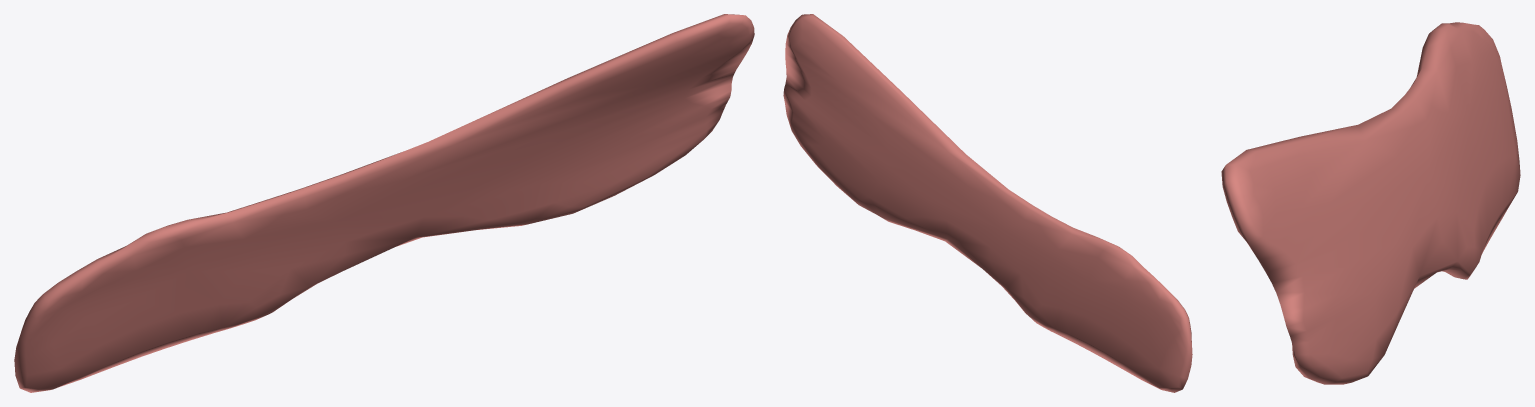
3 views of the same model, side by side, from view 1: azimuth 30°, elevation 25°; view 2: azimuth 150°, elevation 25°; view 3: azimuth 270°, elevation 25° (orthographic). The views are drawn at different scales.
Parts seen in each view (by area): view 1: ZA_79287dbfe8518311; view 2: ZA_79287dbfe8518311; view 3: ZA_79287dbfe8518311.
Boxes of the visible parts, x1=… form: ZA_79287dbfe8518311: x1=14, y1=14, x2=754, y2=392; ZA_79287dbfe8518311: x1=783, y1=14, x2=1192, y2=392; ZA_79287dbfe8518311: x1=1221, y1=22, x2=1520, y2=384.
Bounding box in the file's own units: 0.0199 × 0.00895 × 0.00549.
